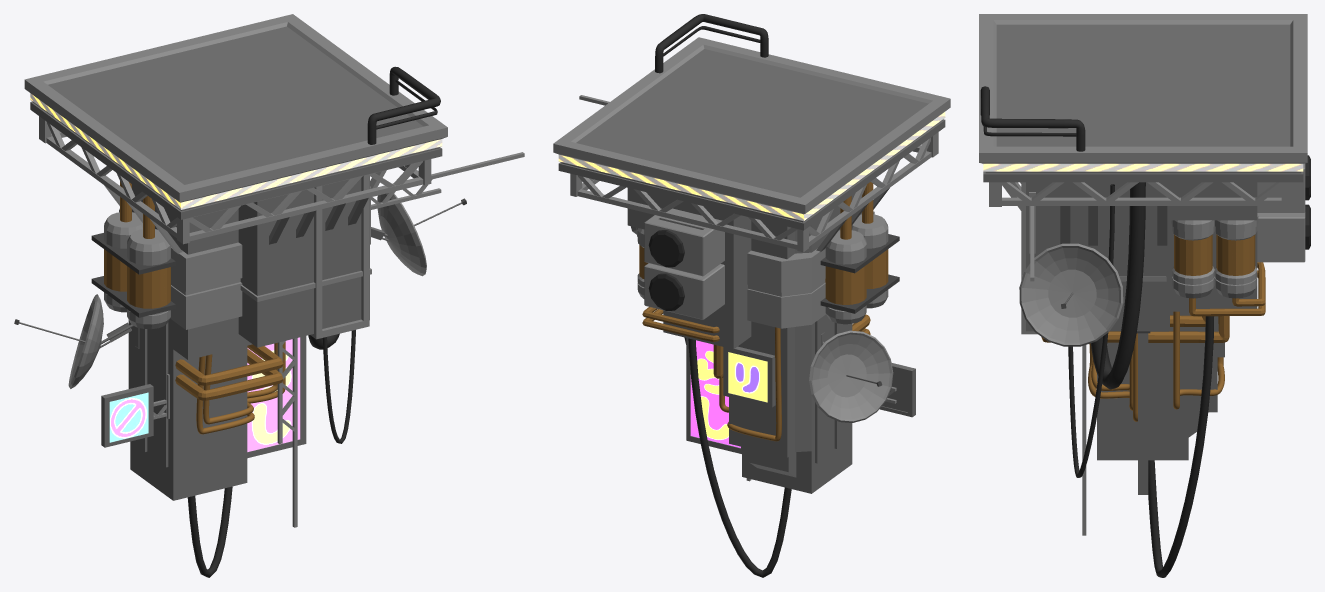
The model's file is platform_2x2.glb.
3 views of the same model, side by side, from view 1: azimuth 30°, elevation 25°; view 2: azimuth 150°, elevation 25°; view 3: azimuth 270°, elevation 25° (orthographic). The views are drawn at different scales.
Parts seen in each view (by area): view 1: Platform_2x2; view 2: Platform_2x2; view 3: Platform_2x2.
Boxes of the visible parts, x1,y1,x2,y2 form: Platform_2x2: [14, 14, 524, 577]; Platform_2x2: [553, 14, 950, 577]; Platform_2x2: [979, 14, 1310, 577].
Size of the model in its own units: 3.31 by 3.83 by 2.16.
2 materials, 1 textured.
